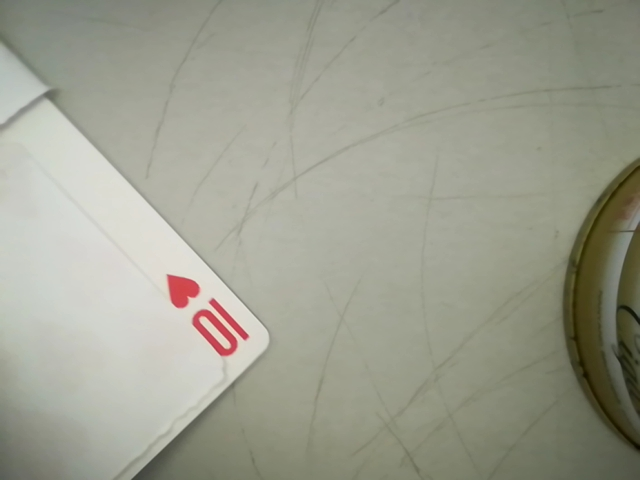hx 10: (154, 267, 260, 367)
